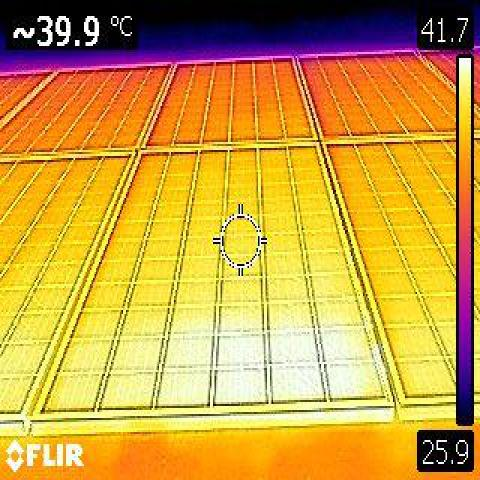fault: (192, 304, 364, 411)
